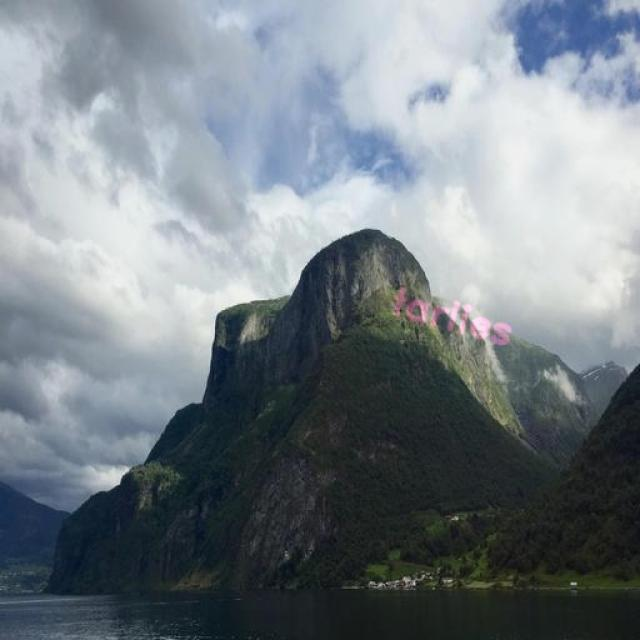watermark: (379, 284, 537, 352)
